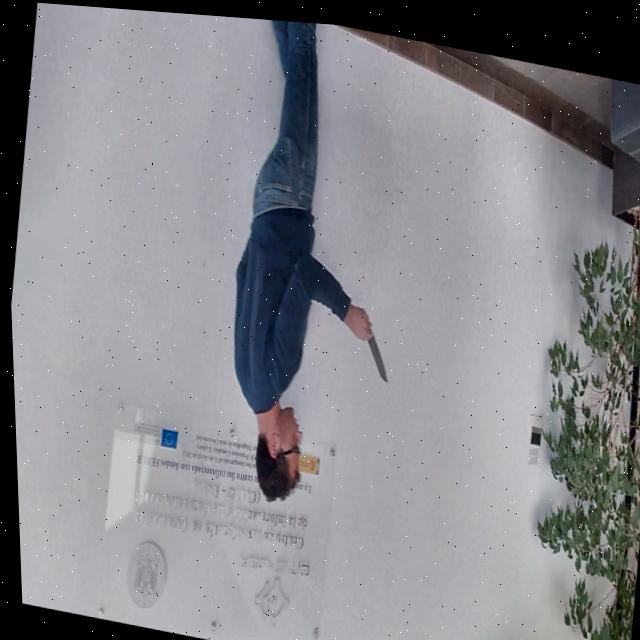knife: (356, 318, 392, 381)
